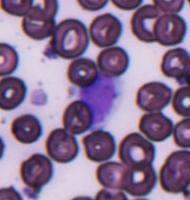L: (79, 70, 118, 115)
